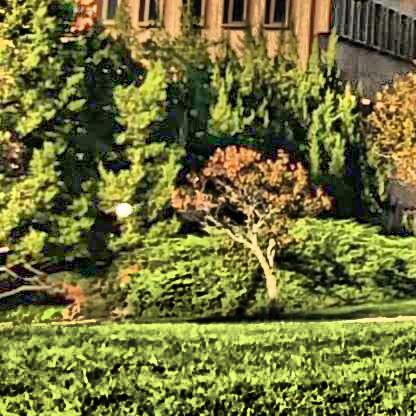golfball: (112, 199, 129, 214)
